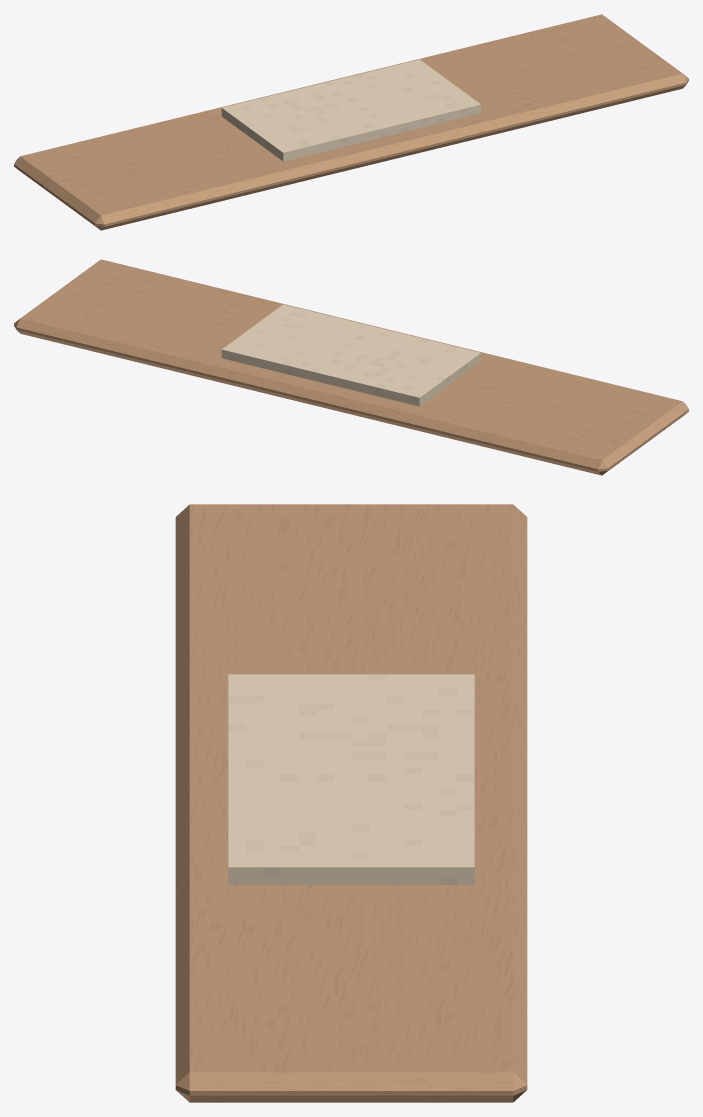
The model's file is adhesive_bandages.glb.
The picture shows the model from 3 angles, top to bottom: view 1: azimuth 30°, elevation 25°; view 2: azimuth 150°, elevation 25°; view 3: azimuth 270°, elevation 25°; orthographic projection. The views are drawn at different scales.
Visible parts, largest first — view 1: block_adhesive strip, block_absorbent pad; view 2: block_adhesive strip, block_absorbent pad; view 3: block_adhesive strip, block_absorbent pad.
Part boxes in pixels (x1,y1,x2,y2): block_adhesive strip: (14,14,688,230); block_absorbent pad: (221,59,481,161); block_adhesive strip: (14,259,688,475); block_absorbent pad: (221,304,481,406); block_adhesive strip: (175,504,527,1102); block_absorbent pad: (228,674,474,884).
Bounding box in the file's own units: 0.078 × 0.003 × 0.02.
Materials: 1 (1 with a texture image).
